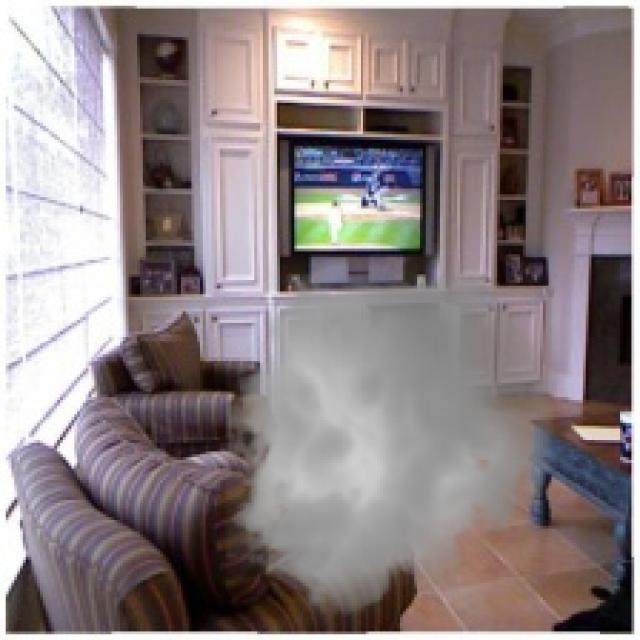smoke: (211, 257, 566, 629)
